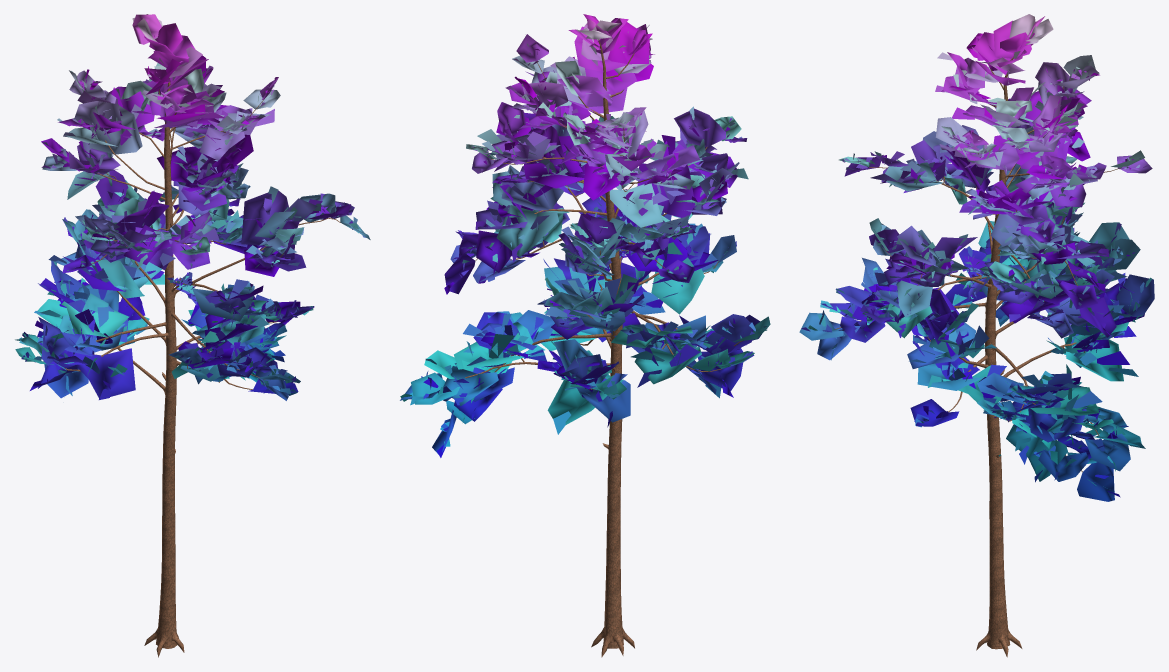
Rendered from Pine_C.fbx.
3 renders of one model, left to right at view 1: azimuth 30°, elevation 25°; view 2: azimuth 150°, elevation 25°; view 3: azimuth 270°, elevation 25°, orthographic. The views are drawn at different scales.
Parts seen in each view (by area): view 1: Pine_C_LOD0; view 2: Pine_C_LOD0; view 3: Pine_C_LOD0.
Part boxes in pixels (bbox=[...]): Pine_C_LOD0: bbox=[15, 14, 370, 657]; Pine_C_LOD0: bbox=[400, 14, 770, 657]; Pine_C_LOD0: bbox=[799, 14, 1154, 657].
Size of what is drawn, in the model's own units: 12.99 by 25 by 12.75.
